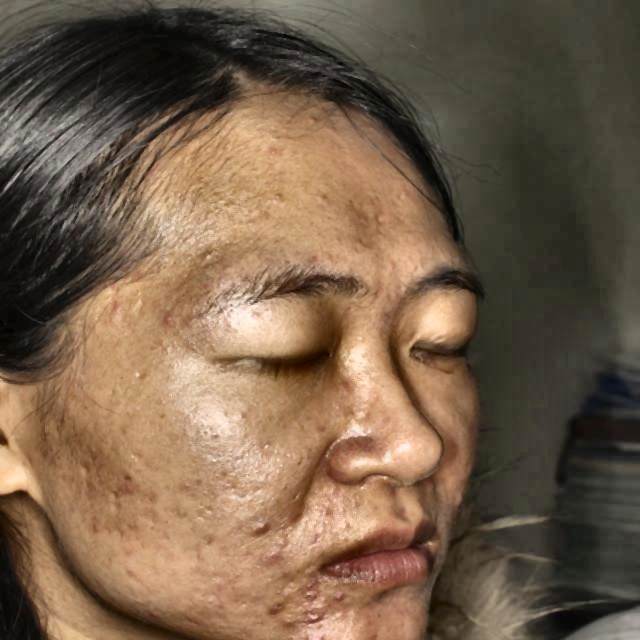pustule: (112, 468, 144, 505), (296, 570, 322, 607), (158, 309, 180, 334), (81, 516, 101, 543), (242, 516, 268, 536), (301, 610, 319, 631), (266, 597, 282, 617)
